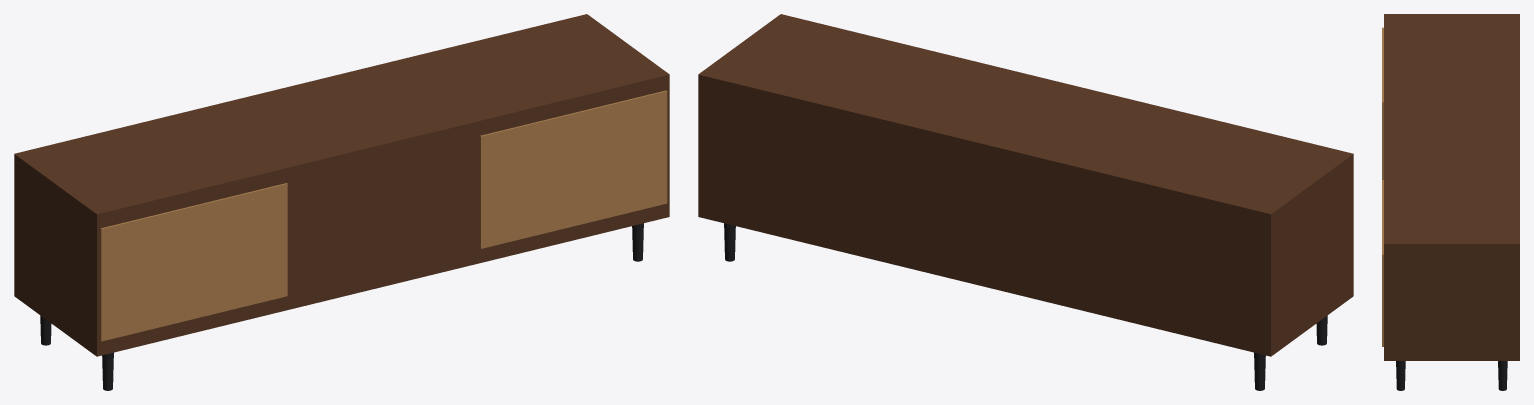
Rendered from tv-unit.glb.
The picture shows the model from 3 angles, left to right: view 1: azimuth 30°, elevation 25°; view 2: azimuth 150°, elevation 25°; view 3: azimuth 270°, elevation 25°; orthographic projection. The views are drawn at different scales.
Parts seen in each view (by area): view 1: TV console; view 2: TV console; view 3: TV console.
Part boxes in pixels (x1=…): TV console: x1=14, y1=14, x2=669, y2=390; TV console: x1=698, y1=14, x2=1353, y2=390; TV console: x1=1382, y1=14, x2=1519, y2=390.
Size of the model in its own units: 1.6 by 0.5 by 0.405.
